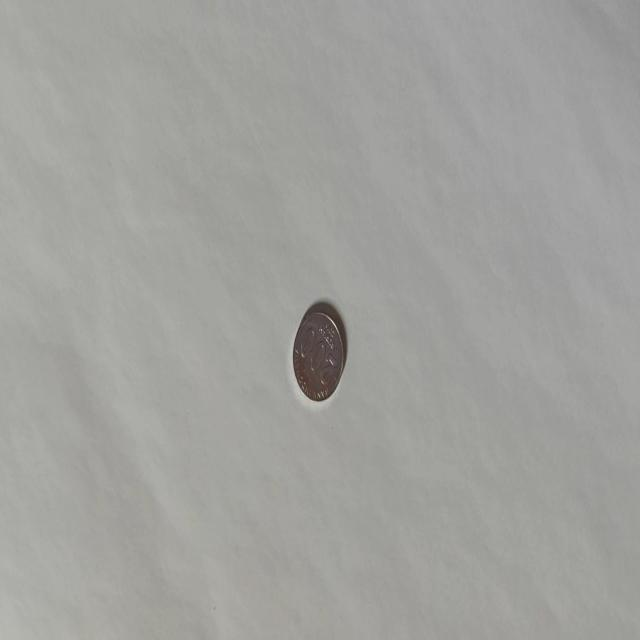dua ratus rupiah: (292, 306, 344, 402)
